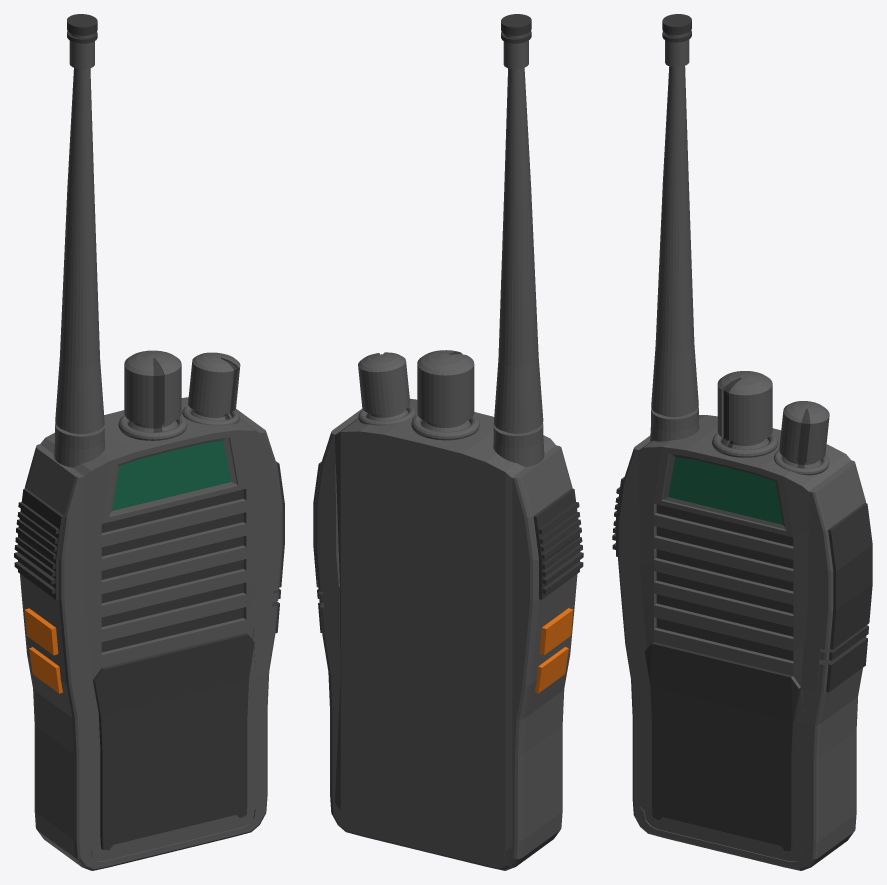
File: Rádio PRONTO.fbx
3 views of the same model, side by side, from view 1: azimuth 30°, elevation 25°; view 2: azimuth 150°, elevation 25°; view 3: azimuth 330°, elevation 25° (orthographic). The views are drawn at different scales.
Parts seen in each view (by area): view 1: Cylinder; view 2: Cylinder; view 3: Cylinder.
Part boxes in pixels (box(x1,y1,x2,y2)): Cylinder: box(14, 14, 284, 870); Cylinder: box(313, 14, 583, 870); Cylinder: box(612, 14, 872, 870).
Size of the model in its own units: 129 by 440 by 45.77.
